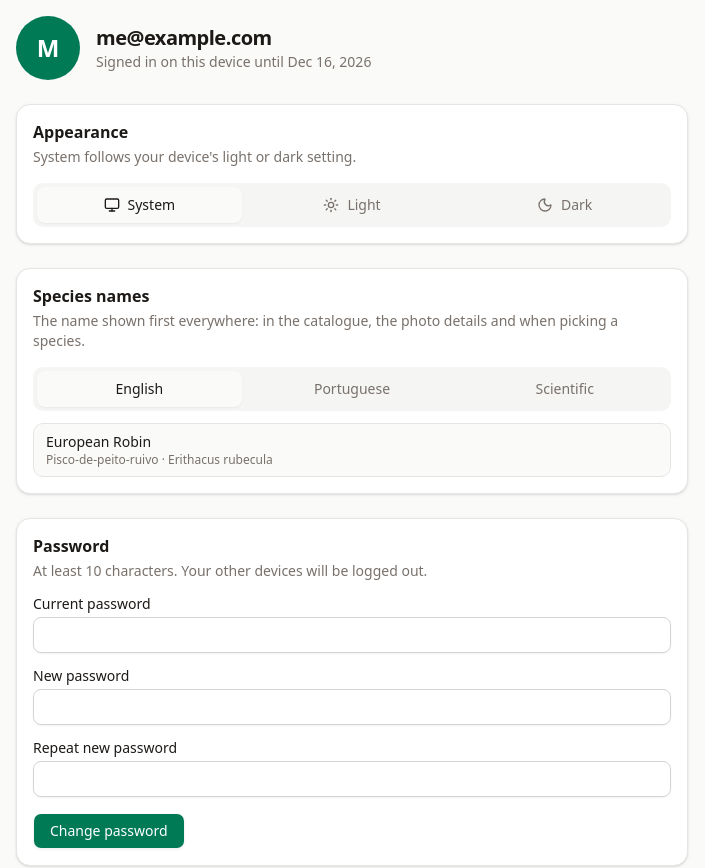
Test case: Profile password › refuses mismatched new passwords without asking the server
Type "old password!" into the password field labelled "Current password" at (352, 635), box x1=33 y1=617 x2=671 y2=653
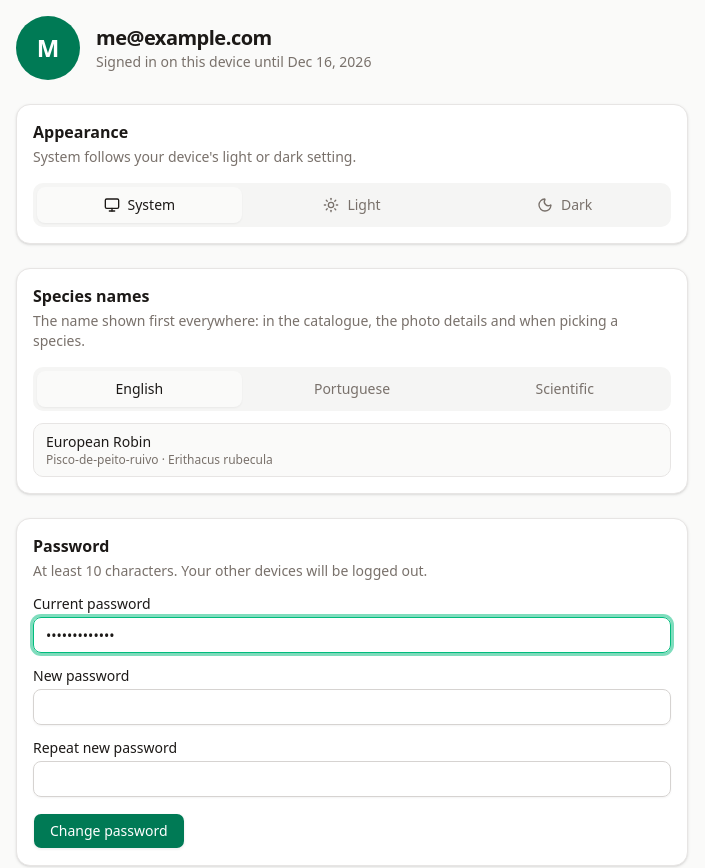
Type "a new password long enough" into the password field labelled "New password" at (352, 707), box x1=33 y1=689 x2=671 y2=725
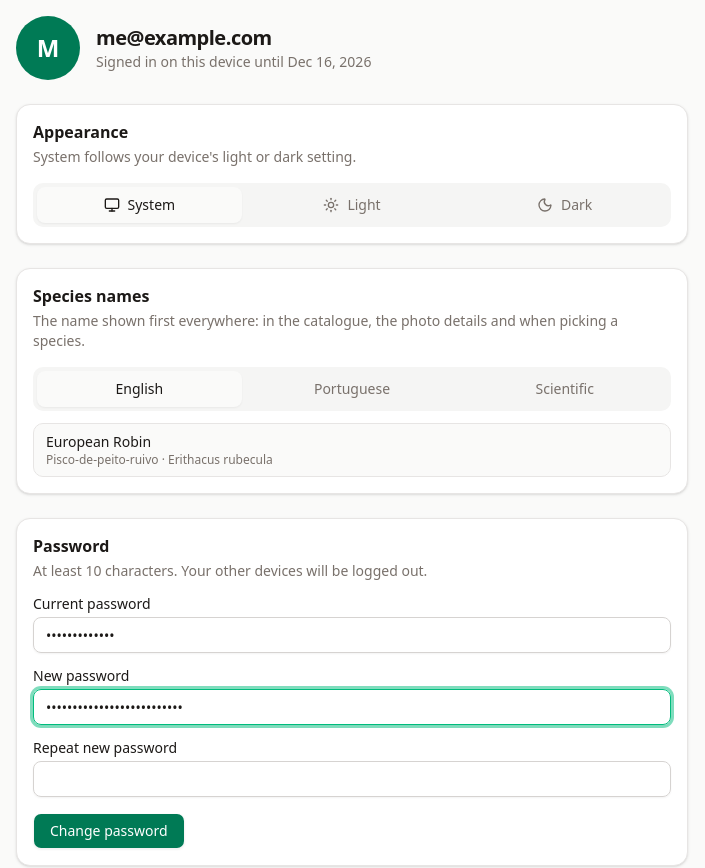
Type "something else entirely" into the password field labelled "Repeat new password" at (352, 779), box x1=33 y1=761 x2=671 y2=797
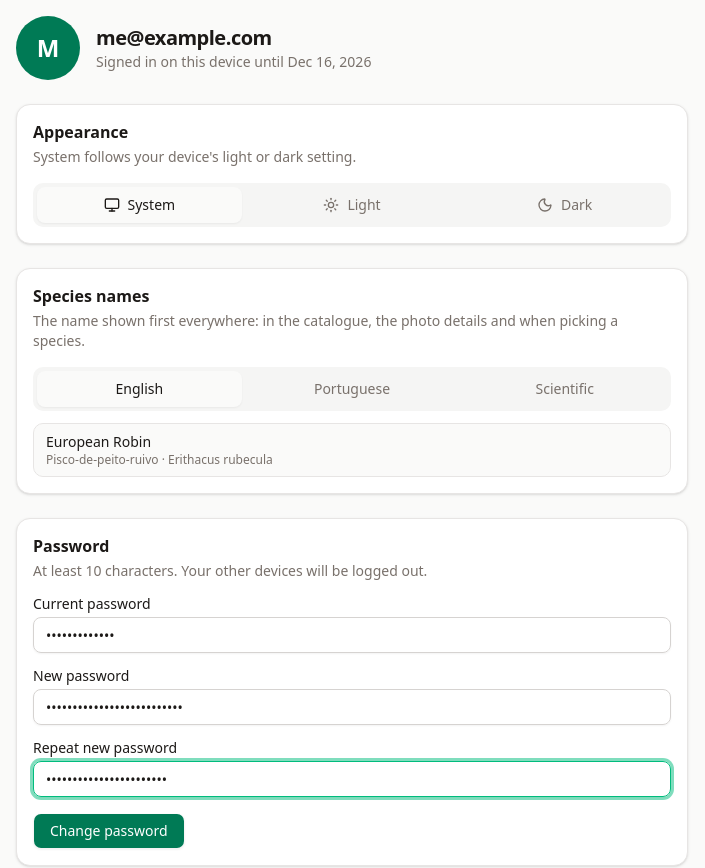
Click the button "Change password" at (109, 831), box x1=33 y1=813 x2=185 y2=849
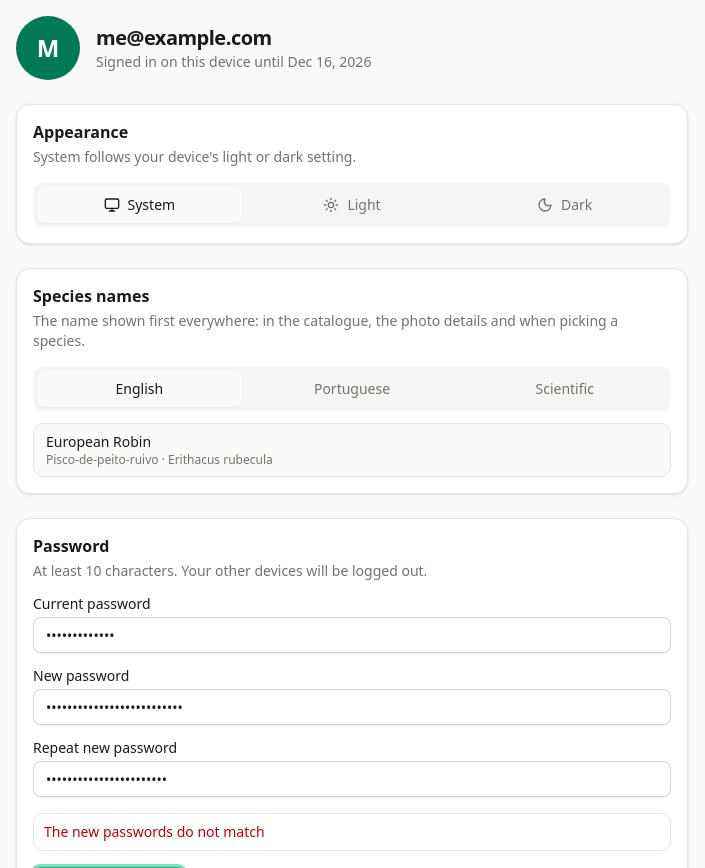
Check: the text "The new passwords do not match" is shown, box x1=44 y1=822 x2=265 y2=841
